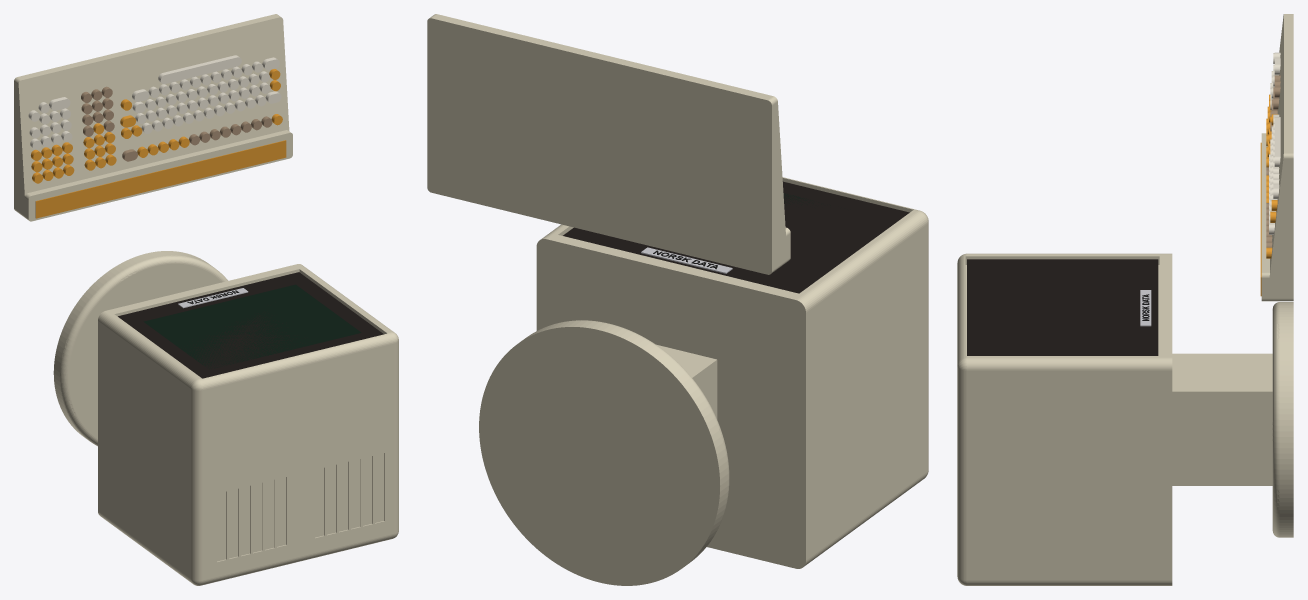
The model's file is ND246-Terminal.obj.
3 views of the same model, side by side, from view 1: azimuth 30°, elevation 25°; view 2: azimuth 150°, elevation 25°; view 3: azimuth 270°, elevation 25° (orthographic). The views are drawn at different scales.
Parts seen in each view (by area): view 1: Cabinet, KeyboardCase, Stand, Screen, KeysWhite, Bezel, LegendStrip, KeysOrange, KeysTan; view 2: Cabinet, KeyboardCase, Stand, Bezel; view 3: Cabinet, Stand, Bezel, KeyboardCase, KeysWhite, KeysOrange, KeysTan.
Boxes of the visible parts, left/top/right/bottom form: Cabinet: left=98, top=264, right=398, bottom=585; KeyboardCase: left=14, top=14, right=292, bottom=221; Stand: left=53, top=251, right=228, bottom=446; Screen: left=143, top=284, right=361, bottom=369; KeysWhite: left=28, top=55, right=281, bottom=149; Bezel: left=118, top=272, right=383, bottom=378; LegendStrip: left=35, top=140, right=286, bottom=218; KeysOrange: left=31, top=69, right=282, bottom=183; KeysTan: left=81, top=86, right=272, bottom=161; Cabinet: left=536, top=177, right=928, bottom=568; KeyboardCase: left=427, top=14, right=790, bottom=274; Stand: left=479, top=320, right=729, bottom=585; Bezel: left=563, top=181, right=909, bottom=293; Cabinet: left=957, top=253, right=1172, bottom=585; Stand: left=1172, top=302, right=1293, bottom=537; Bezel: left=967, top=259, right=1158, bottom=355; KeyboardCase: left=1261, top=14, right=1293, bottom=301; KeysWhite: left=1269, top=52, right=1280, bottom=234; KeysOrange: left=1266, top=94, right=1277, bottom=258; KeysTan: left=1266, top=75, right=1280, bottom=247.
Size of the model in its own units: 486 by 716 by 485.
